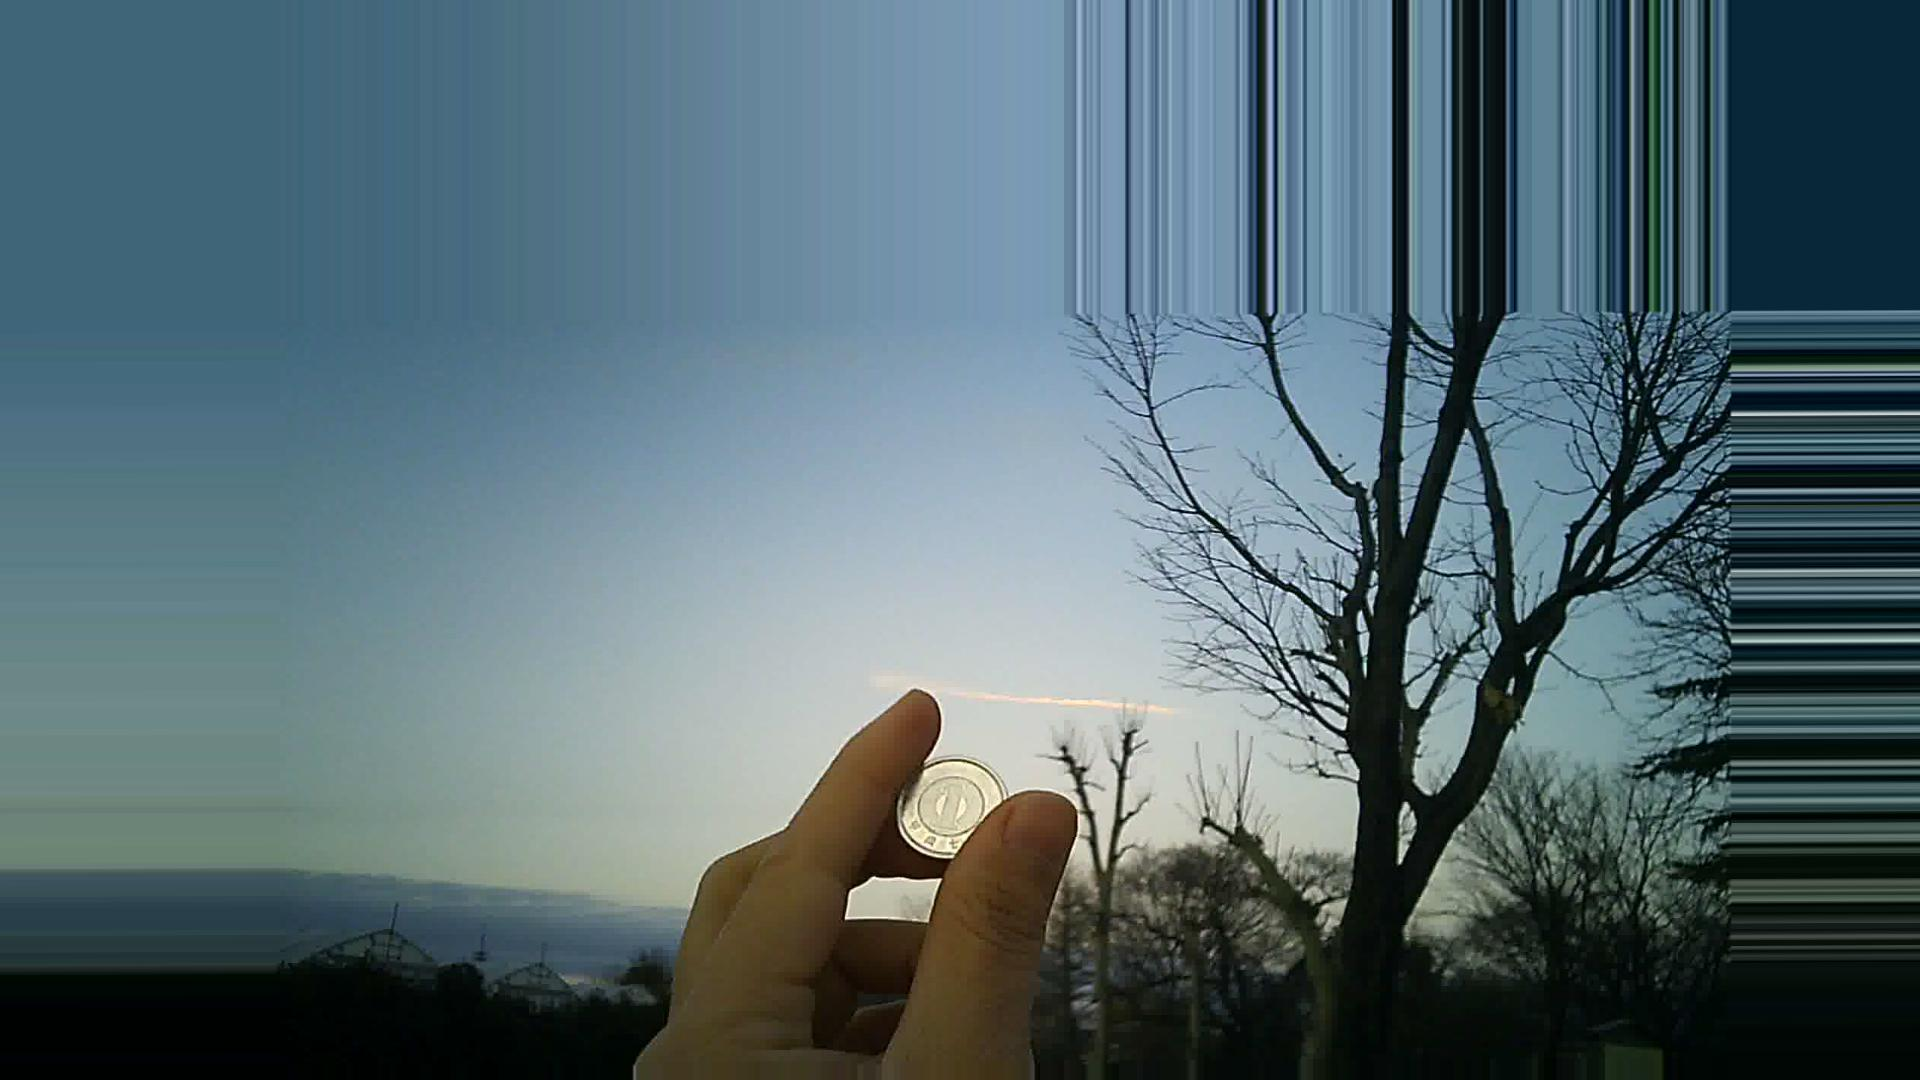1 Yen: (886, 752, 1004, 860)
